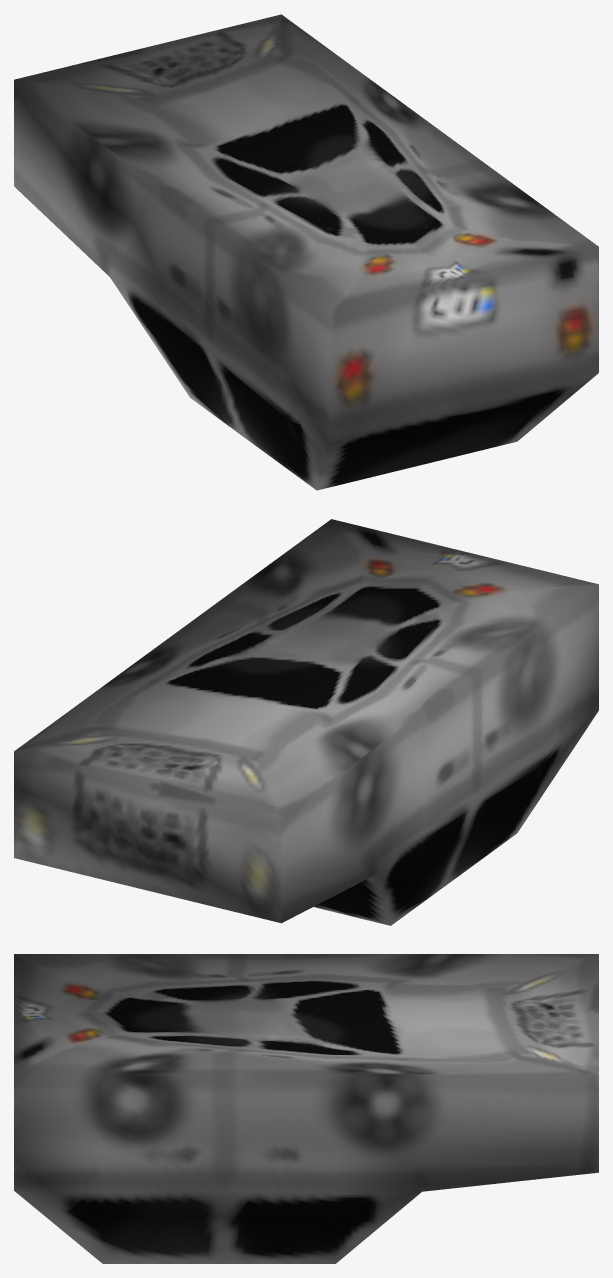
The model's file is car.glb.
The picture shows the model from 3 angles, top to bottom: view 1: azimuth 30°, elevation 25°; view 2: azimuth 150°, elevation 25°; view 3: azimuth 270°, elevation 25°; orthographic projection. The views are drawn at different scales.
Visible parts, largest first — view 1: Cube.001; view 2: Cube.001; view 3: Cube.001.
Part boxes in pixels (x1,y1,x2,y2): Cube.001: [14, 14, 598, 490]; Cube.001: [14, 519, 598, 925]; Cube.001: [14, 954, 598, 1263].
Size of the model in its own units: 2.06 by 1.63 by 4.23.
Materials: 1 (1 with a texture image).
